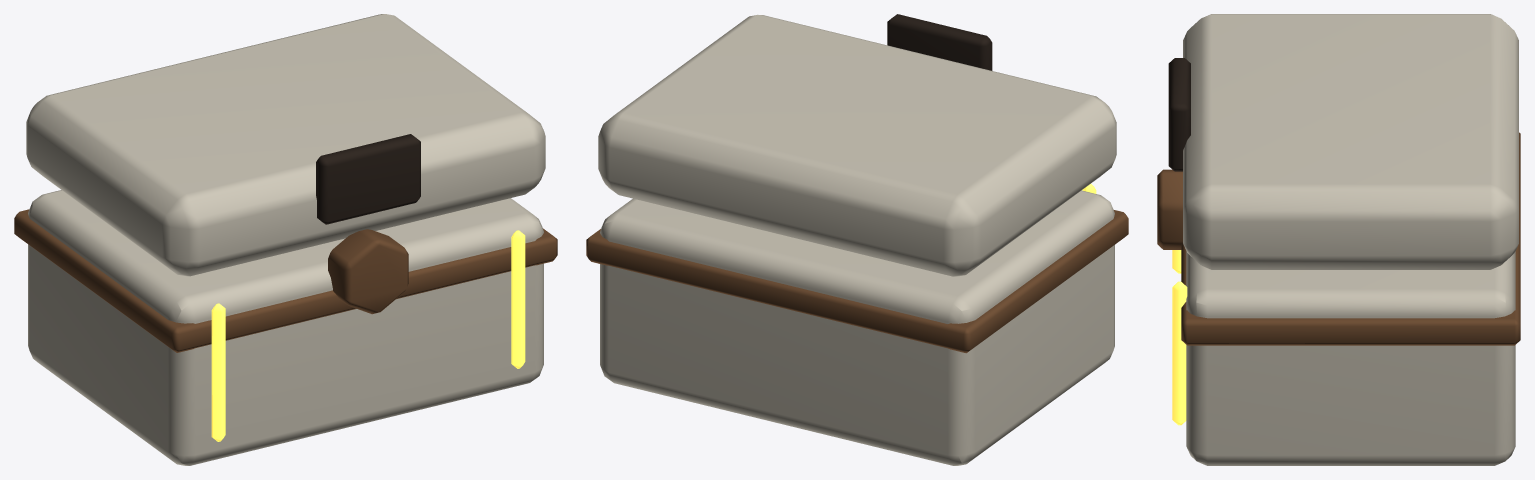
Rendered from prop_coffer_tin.glb.
3 renders of one model, left to right at view 1: azimuth 30°, elevation 25°; view 2: azimuth 150°, elevation 25°; view 3: azimuth 270°, elevation 25°, orthographic. The views are drawn at different scales.
Visible parts, largest first — view 1: prop_coffer_tin; view 2: prop_coffer_tin; view 3: prop_coffer_tin.
Boxes of the visible parts, x1,y1,x2,y2 form: prop_coffer_tin: (14,14,557,465); prop_coffer_tin: (586,14,1128,465); prop_coffer_tin: (1157,14,1520,465).
Bounding box in the file's own units: 0.618 × 0.4402 × 0.4854.
1 material, 1 textured.
